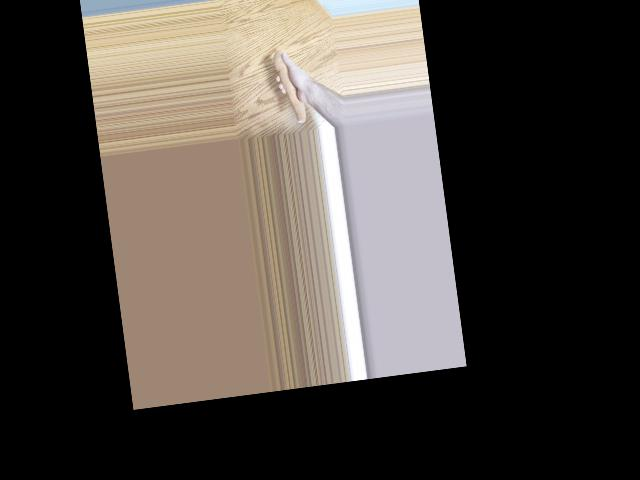sweet_potato: (272, 48, 308, 126)
